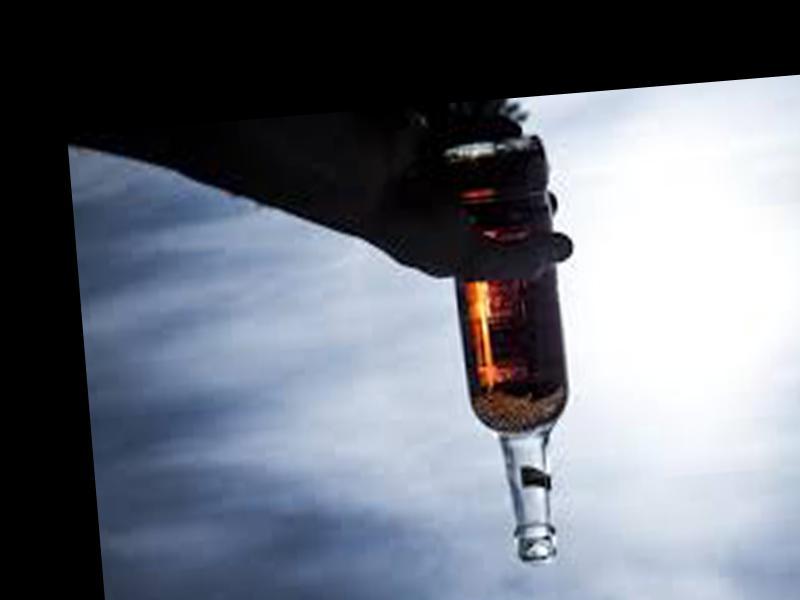Beer: (444, 141, 576, 567)
